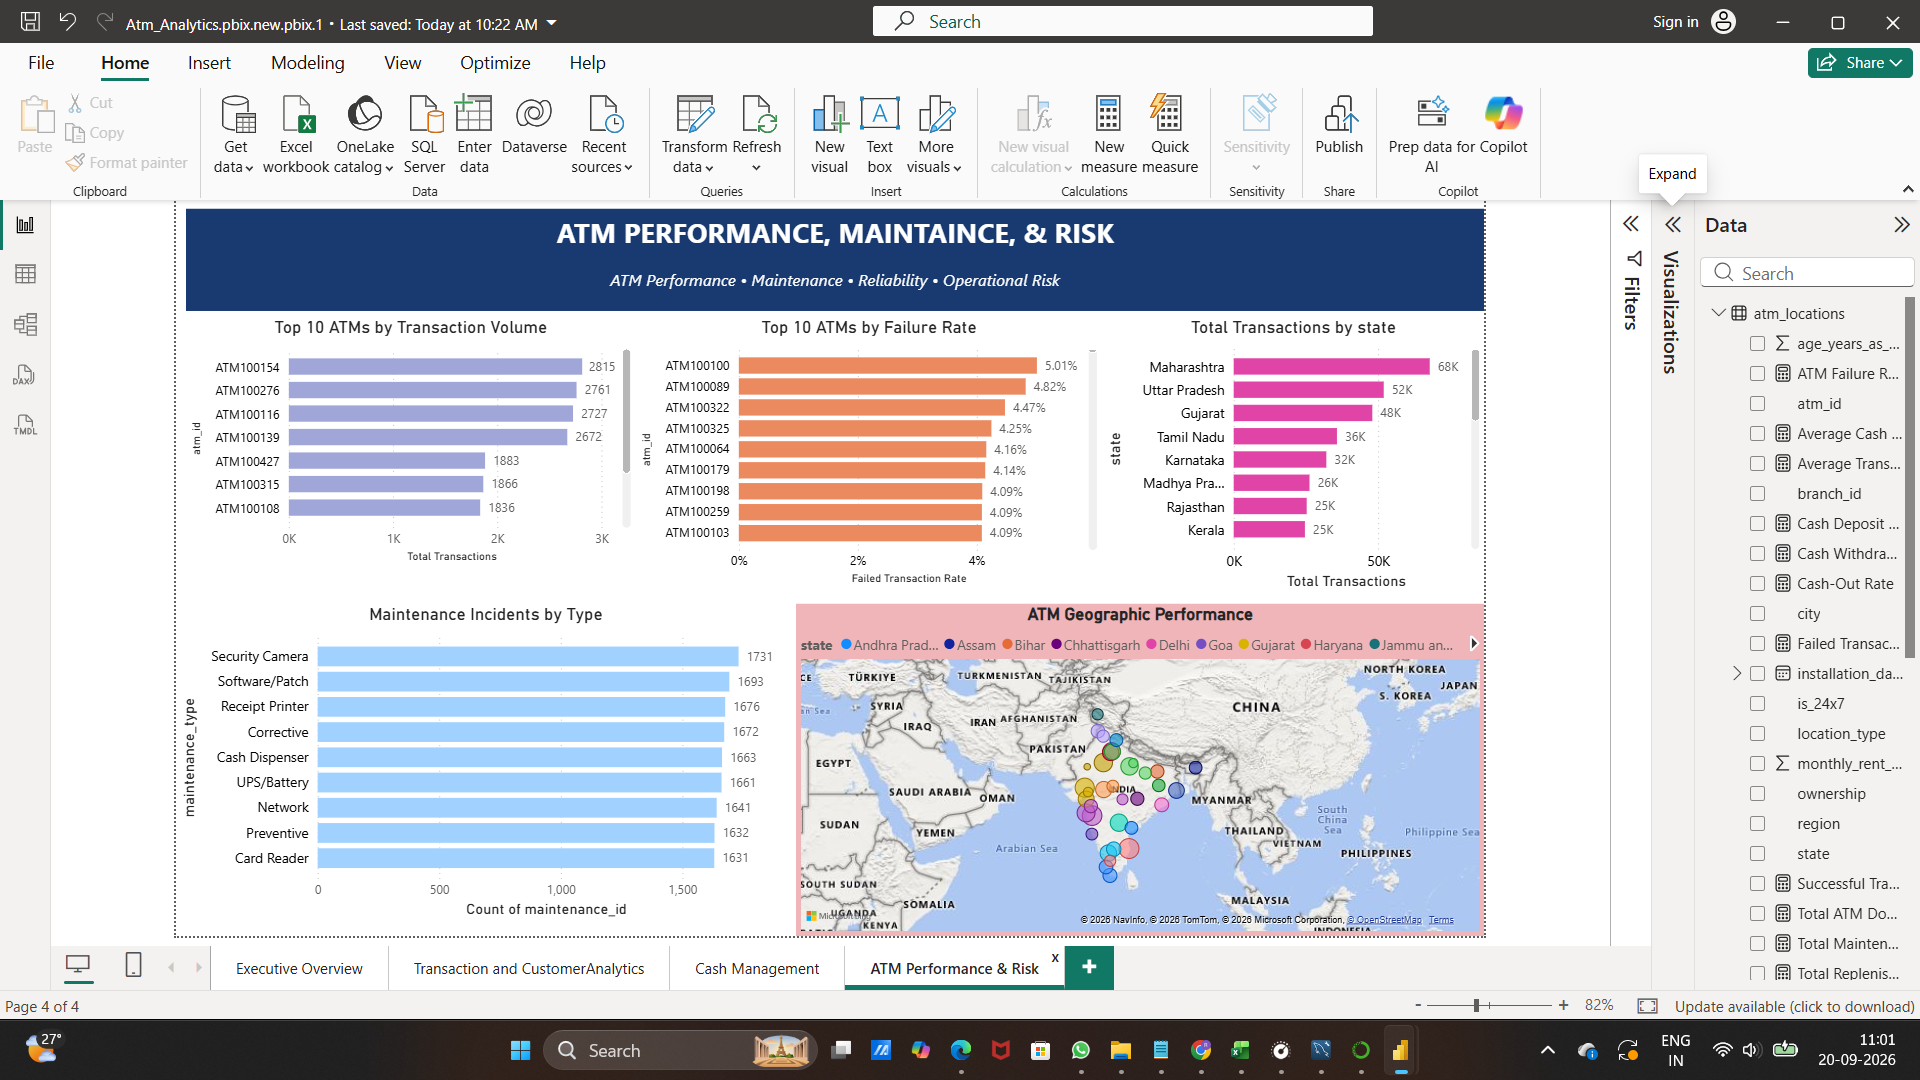

The page's visual inventory and layout, read from the dashboard file:
{"tool":"powerbi","page":{"name":"ATM Performance & Risk","canvas":[1280,720],"ordinal":3},"visuals":[{"type":"textbox","box":[9.8,0,1270.5,78.3],"z":0},{"type":"clusteredBarChart","title":"Top 10 ATMs by Transaction Volume","fields":{"Category":["transactions.atm_id"],"Y":["atm_locations.Total Transactions"]},"box":[0,78.2,629.8,311.5],"z":1},{"type":"clusteredBarChart","title":"Top 10 ATMs by Failure Rate","fields":{"Y":["atm_locations.Failed Transaction Rate"],"Category":["transactions.atm_id"]},"box":[629.8,78.2,650.4,338.9],"z":2},{"type":"clusteredBarChart","title":"Maintenance Incidents by Type","fields":{"Category":["maintenance_records.maintenance_type"],"Y":["CountNonNull(maintenance_records.maintenance_id)"]},"box":[0,389.7,580.4,330.7],"z":3},{"type":"clusteredBarChart","fields":{"Category":["atm_locations.state"],"Y":["atm_locations.Total Transactions"]},"box":[1267.9,0,12.3,19.2],"z":4},{"type":"map","title":"ATM Geographic Performance","fields":{"Category":["atm_locations.city"],"Size":["atm_locations.Total Transactions"],"Series":["atm_locations.state"]},"box":[580.4,389.7,699.8,330.7],"z":5}]}

Visuals, with their boxes on the page's 1280x720 design canvas (x1, y1, x2, y2). These are canvas units, not pixel positions in the 1920x1080 screenshot, which may show the page scaled, cropped or inside an application window:
textbox: {"left": 10, "top": 0, "right": 1280, "bottom": 78}
"Top 10 ATMs by Transaction Volume" clusteredBarChart: {"left": 0, "top": 78, "right": 630, "bottom": 390}
"Top 10 ATMs by Failure Rate" clusteredBarChart: {"left": 630, "top": 78, "right": 1280, "bottom": 417}
"Maintenance Incidents by Type" clusteredBarChart: {"left": 0, "top": 390, "right": 580, "bottom": 720}
clusteredBarChart - atm_locations.state x atm_locations.Total Transactions: {"left": 1268, "top": 0, "right": 1280, "bottom": 19}
"ATM Geographic Performance" map: {"left": 580, "top": 390, "right": 1280, "bottom": 720}
